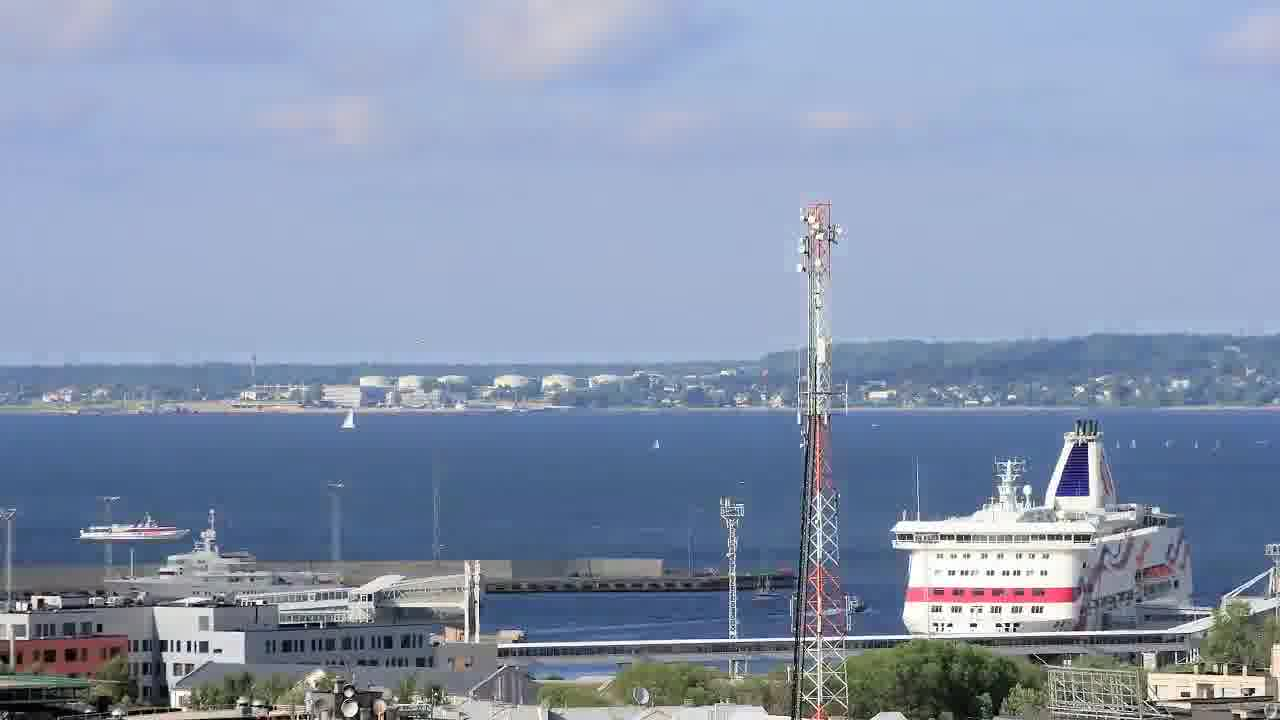type-1: (65, 499, 192, 557)
type-2: (325, 393, 377, 445)
type-3: (868, 415, 1225, 638), (84, 537, 359, 610)
